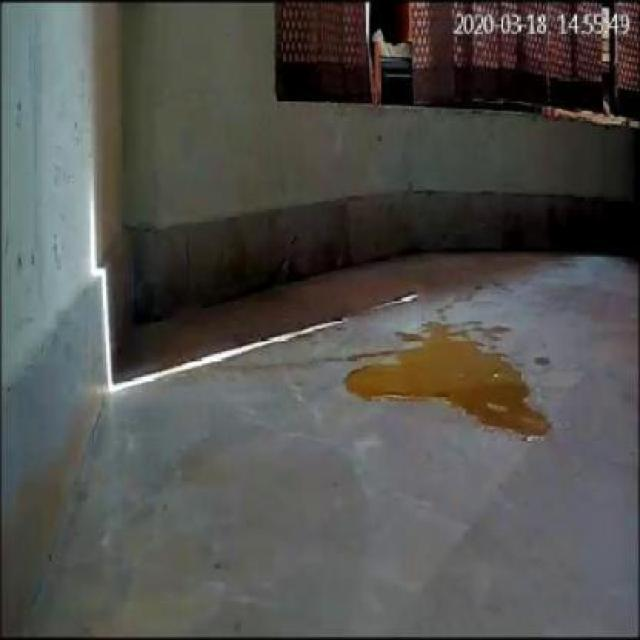spillage: (343, 314, 549, 436), (344, 339, 550, 440)
